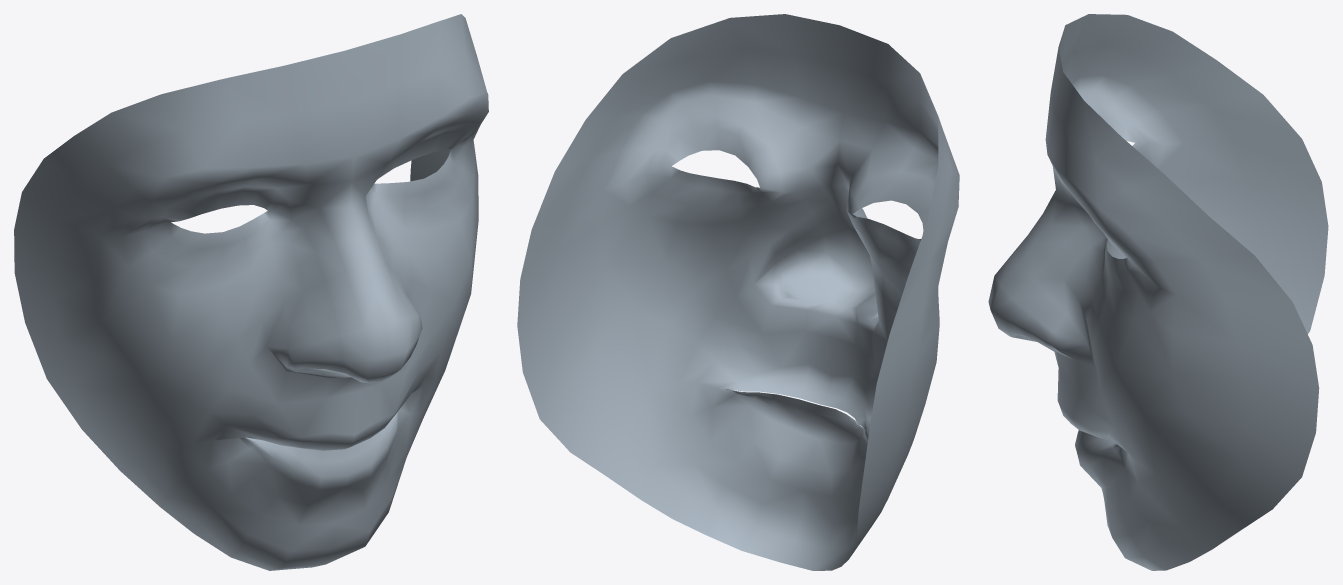
The model's file is hector-mediapipe-poc.glb.
3 views of the same model, side by side, from view 1: azimuth 30°, elevation 25°; view 2: azimuth 150°, elevation 25°; view 3: azimuth 270°, elevation 25° (orthographic). The views are drawn at different scales.
Parts seen in each view (by area): view 1: Hector photo-derived MediaPipe facial surface; view 2: Hector photo-derived MediaPipe facial surface; view 3: Hector photo-derived MediaPipe facial surface.
Boxes of the visible parts, <box> form: Hector photo-derived MediaPipe facial surface: <box>14,14,488,570</box>; Hector photo-derived MediaPipe facial surface: <box>517,14,959,570</box>; Hector photo-derived MediaPipe facial surface: <box>988,14,1328,570</box>.
Size of the model in its own units: 1.5 by 2 by 1.22.
